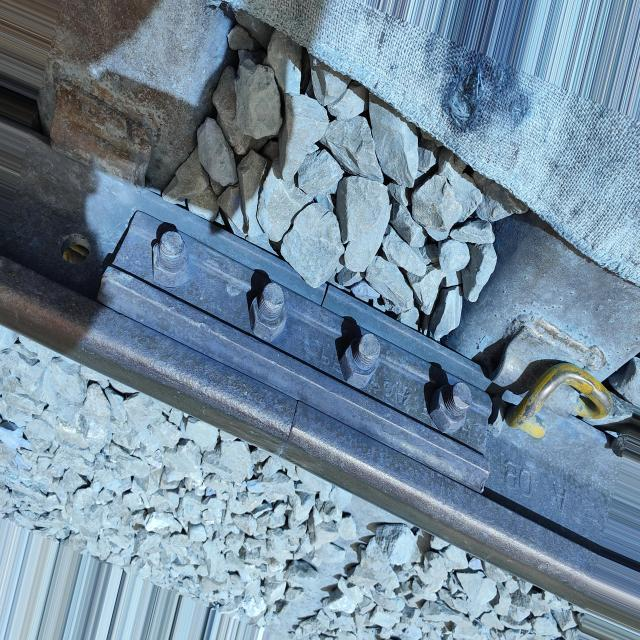Good Fasteners: (487, 317, 614, 466)
Good Joint: (92, 206, 500, 493)
